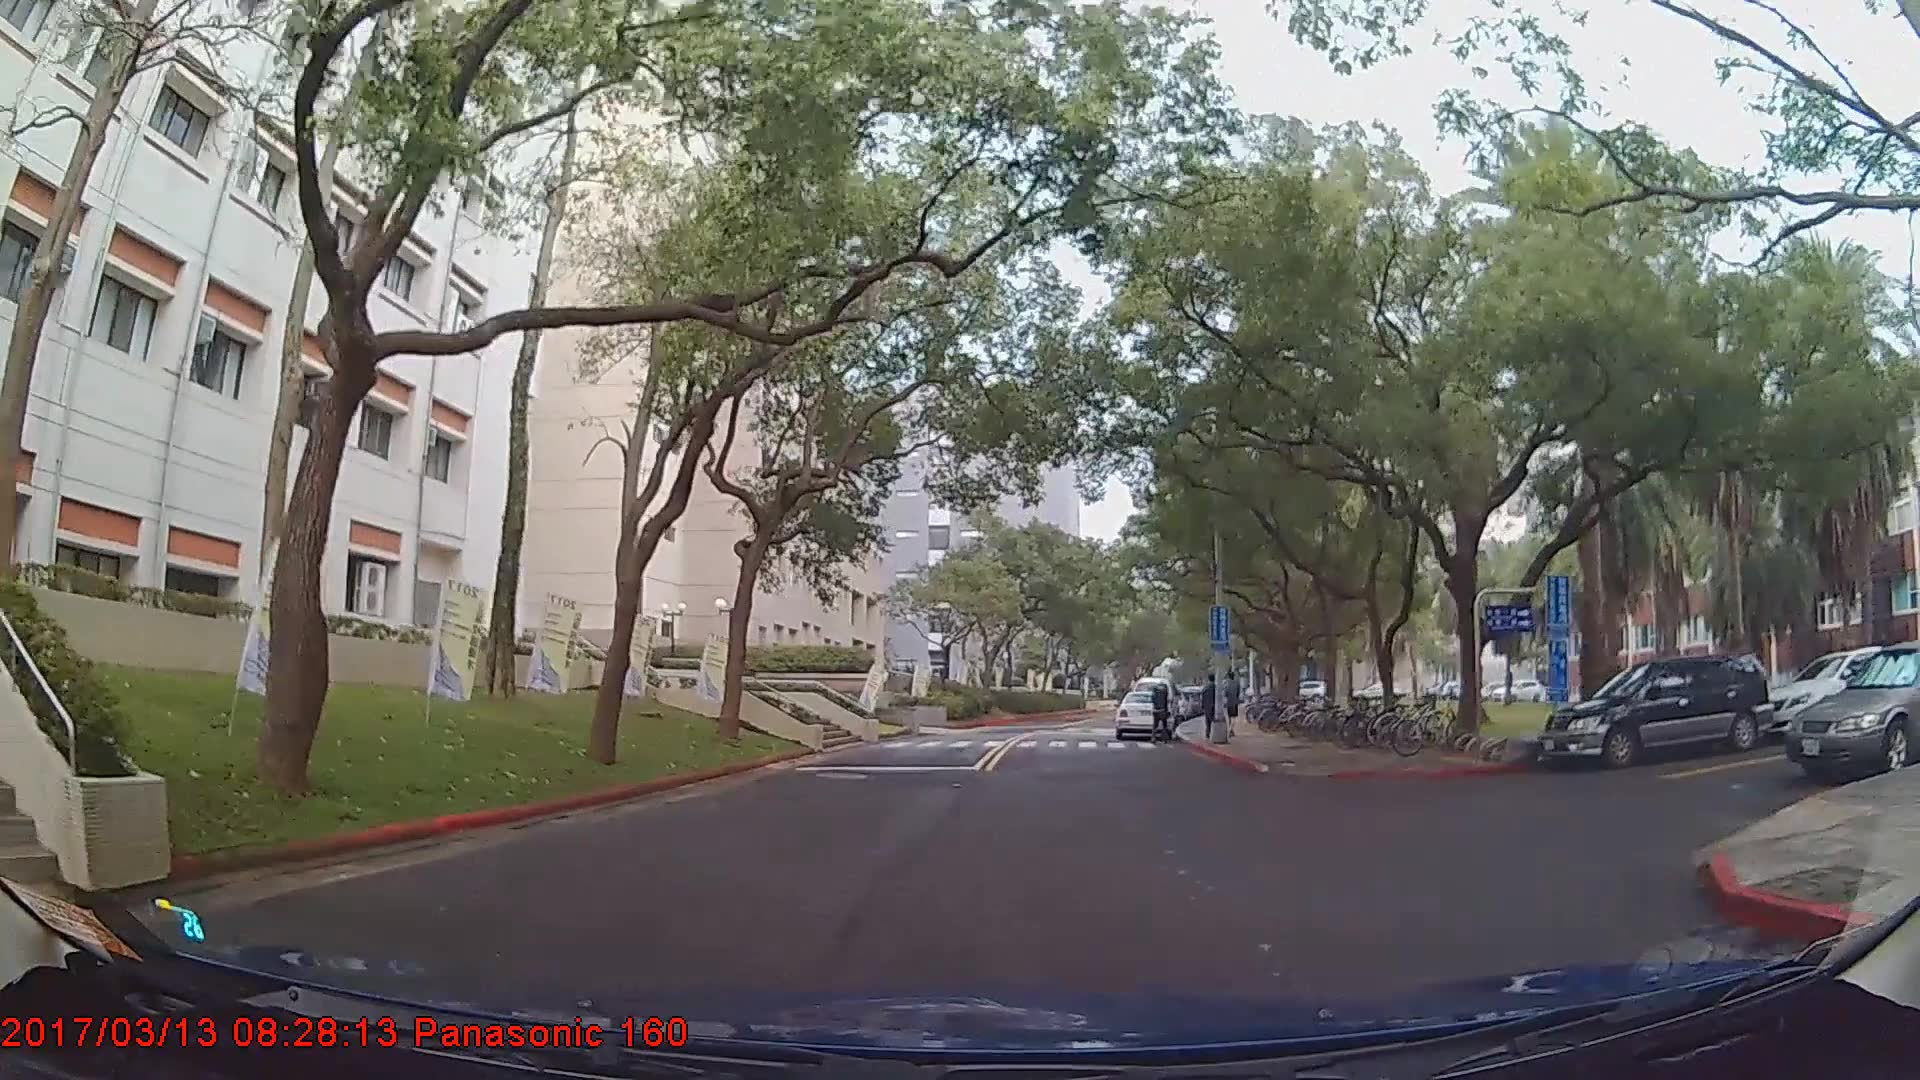pedestrian: (1202, 676, 1225, 741), (1150, 680, 1171, 747)
vehicle: (1539, 651, 1772, 768), (1784, 643, 1920, 784), (1758, 646, 1916, 744), (1112, 689, 1174, 738)
